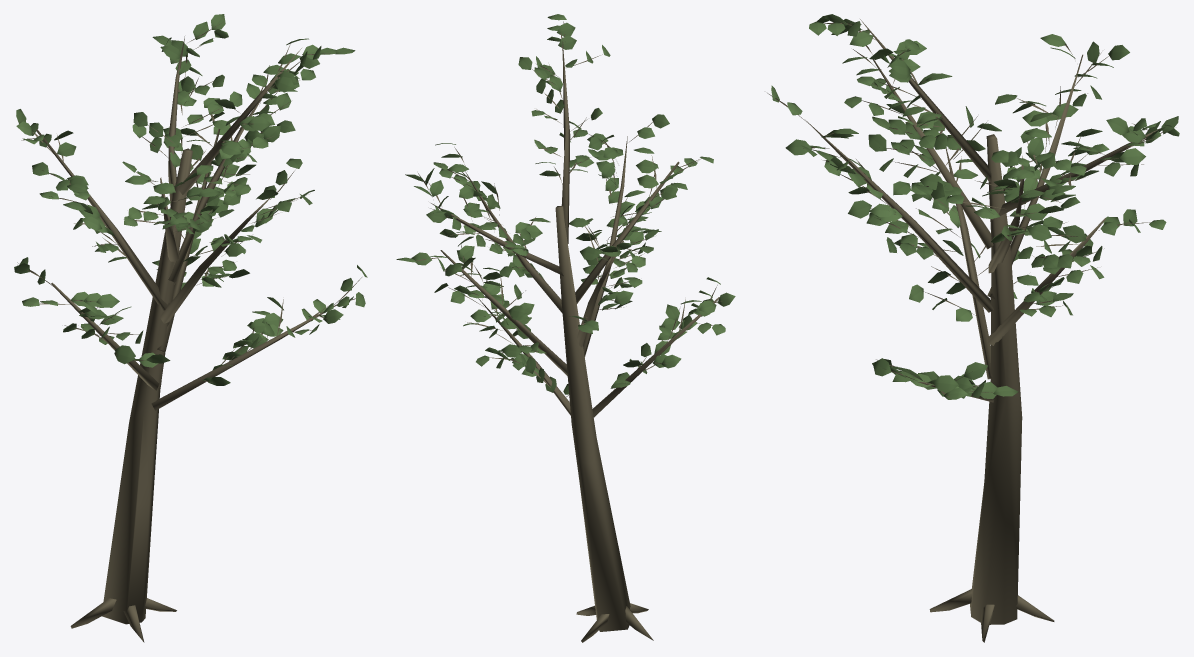
Rendered from CheneVert_1_LOD2.fbx.
3 views of the same model, side by side, from view 1: azimuth 30°, elevation 25°; view 2: azimuth 150°, elevation 25°; view 3: azimuth 270°, elevation 25° (orthographic). The views are drawn at different scales.
Visible parts, largest first — view 1: CheneVert_1_LOD2; view 2: CheneVert_1_LOD2; view 3: CheneVert_1_LOD2.
Boxes of the visible parts, x1,y1,x2,y2 form: CheneVert_1_LOD2: (14,14,367,642); CheneVert_1_LOD2: (396,14,735,642); CheneVert_1_LOD2: (767,14,1179,642).
Bounding box in the file's own units: 417 × 689 × 386.
